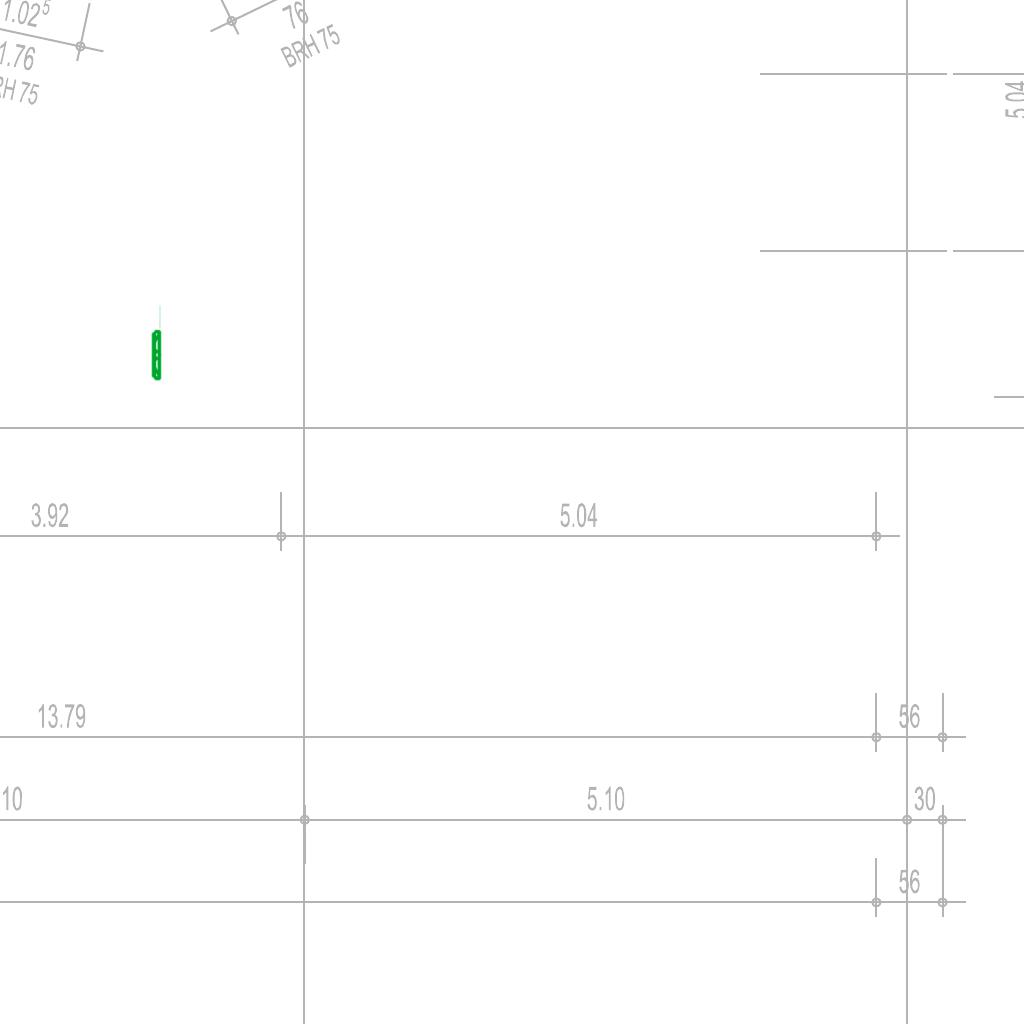Sicherheitsleuchte_Wandeinbau: (150, 303, 162, 382)
